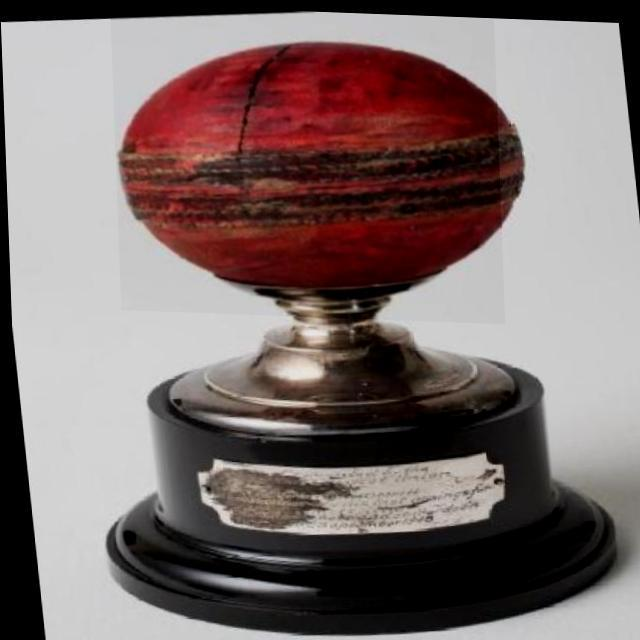-: (110, 3, 503, 320)
